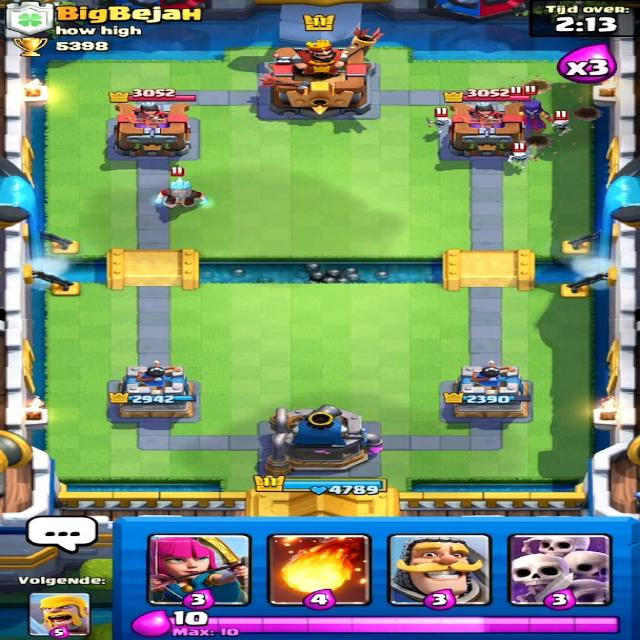Enemy_Ice_Wizard_Troop: (144, 176, 212, 213)
Enemy_Skeleton_Troop: (504, 150, 544, 167), (547, 117, 574, 137), (427, 114, 453, 132)
Enemy_Witch_Troop: (519, 97, 555, 140)
Fireball_Card: (270, 536, 364, 607)
